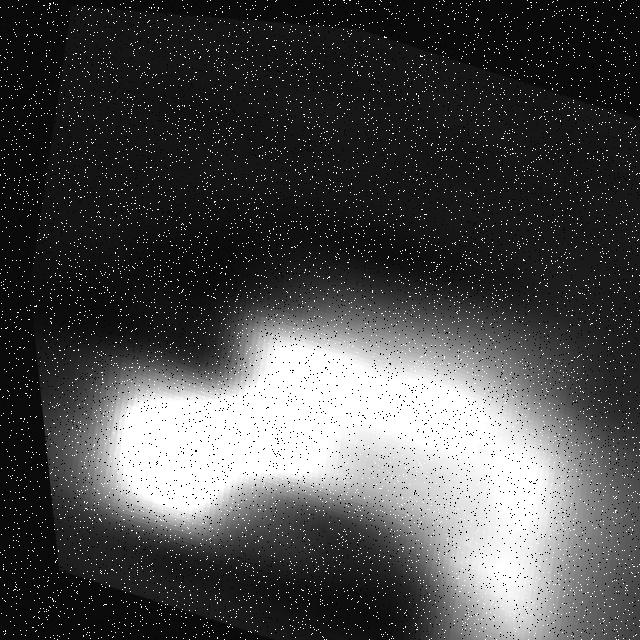person: (14, 164, 639, 640)
